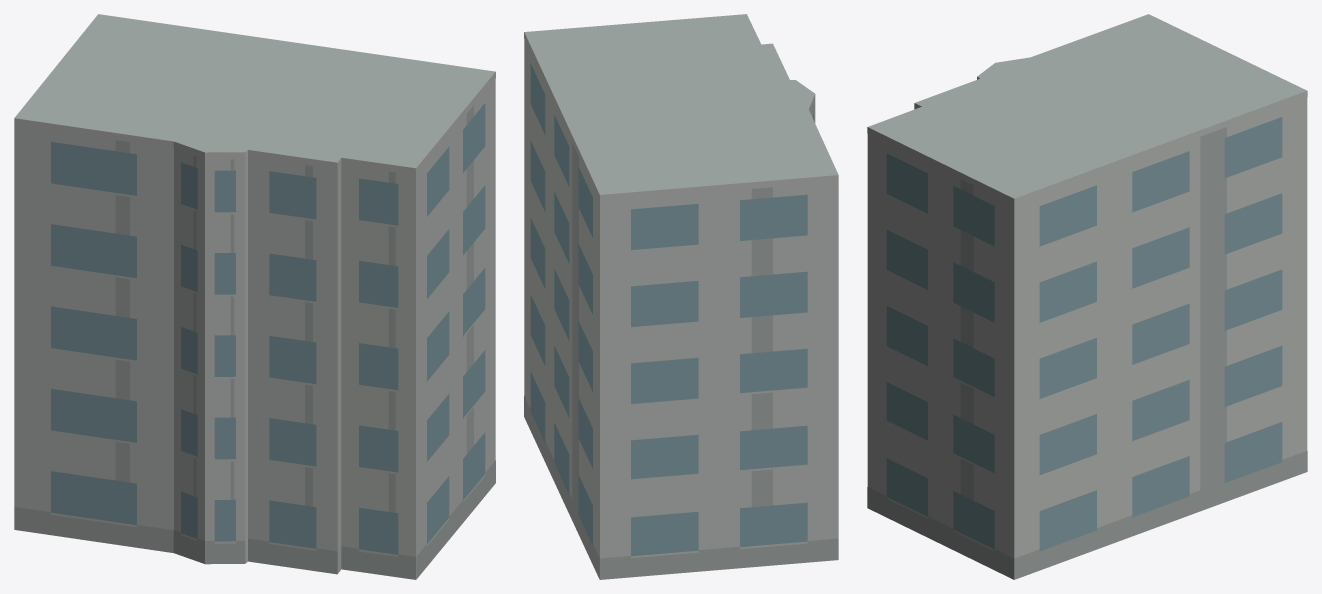
File: survey-upis-32918829.glb
3 renders of one model, left to right at view 1: azimuth 30°, elevation 25°; view 2: azimuth 150°, elevation 25°; view 3: azimuth 270°, elevation 25°, orthographic. The views are drawn at different scales.
Visible parts, largest first — view 1: survey-upis-32918829.tmp; view 2: survey-upis-32918829.tmp; view 3: survey-upis-32918829.tmp.
Part boxes in pixels (x1,y1,x2,y2): survey-upis-32918829.tmp: (14,14,495,579); survey-upis-32918829.tmp: (524,14,838,579); survey-upis-32918829.tmp: (867,14,1307,579).
Bounding box in the file's own units: 14.77 × 14.2 × 14.86.
